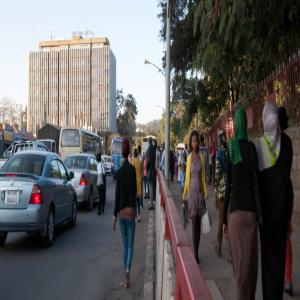Vehicle-registration-plate: (6, 191, 19, 209)
